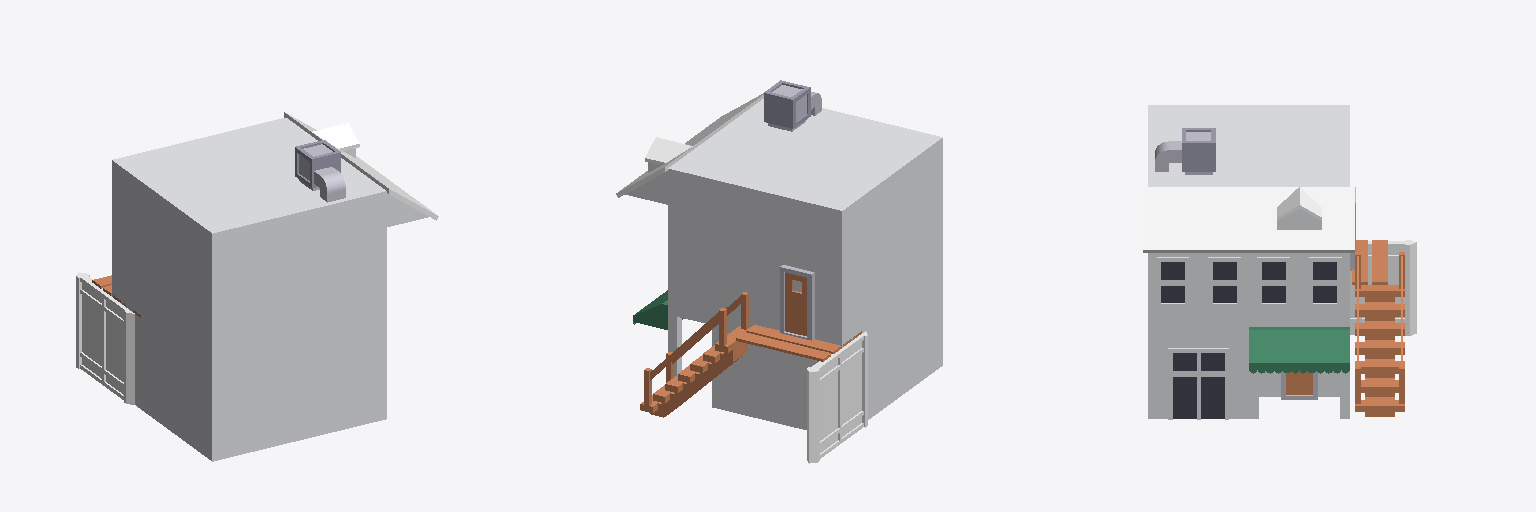
File: Building3.obj
The picture shows the model from 3 angles: view 1: azimuth 30°, elevation 25°; view 2: azimuth 150°, elevation 25°; view 3: azimuth 270°, elevation 25°; orthographic projection.
Size of the model in its own units: 2.63 by 2.87 by 2.71.